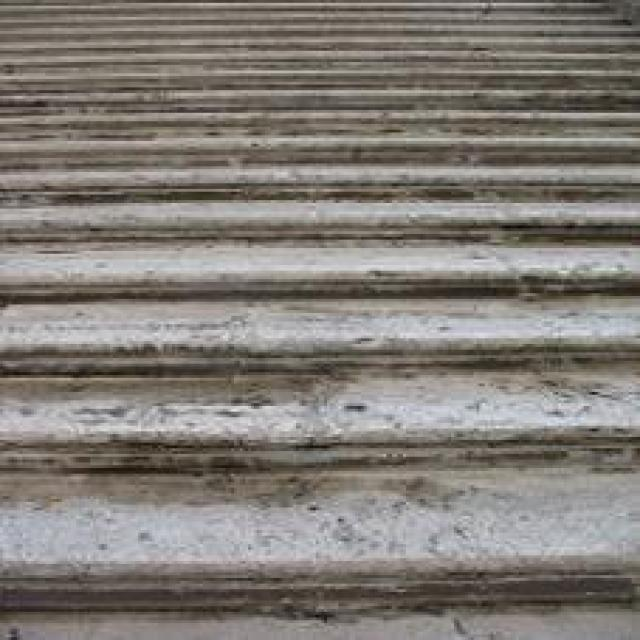upstair: (24, 173, 585, 492)
